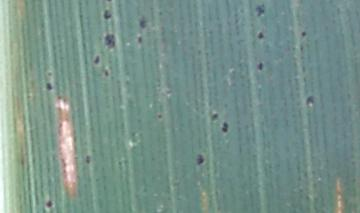tarspot: (102, 32, 115, 49), (138, 15, 148, 31), (195, 152, 205, 165), (255, 3, 265, 16), (102, 9, 112, 20), (221, 121, 230, 133), (45, 199, 54, 210), (84, 151, 91, 164), (45, 80, 53, 91), (210, 112, 219, 121), (255, 31, 265, 39), (306, 94, 314, 104), (136, 33, 143, 44), (155, 111, 163, 120), (257, 61, 264, 71), (94, 53, 99, 65), (103, 69, 110, 77), (46, 69, 52, 77), (300, 30, 306, 38)
